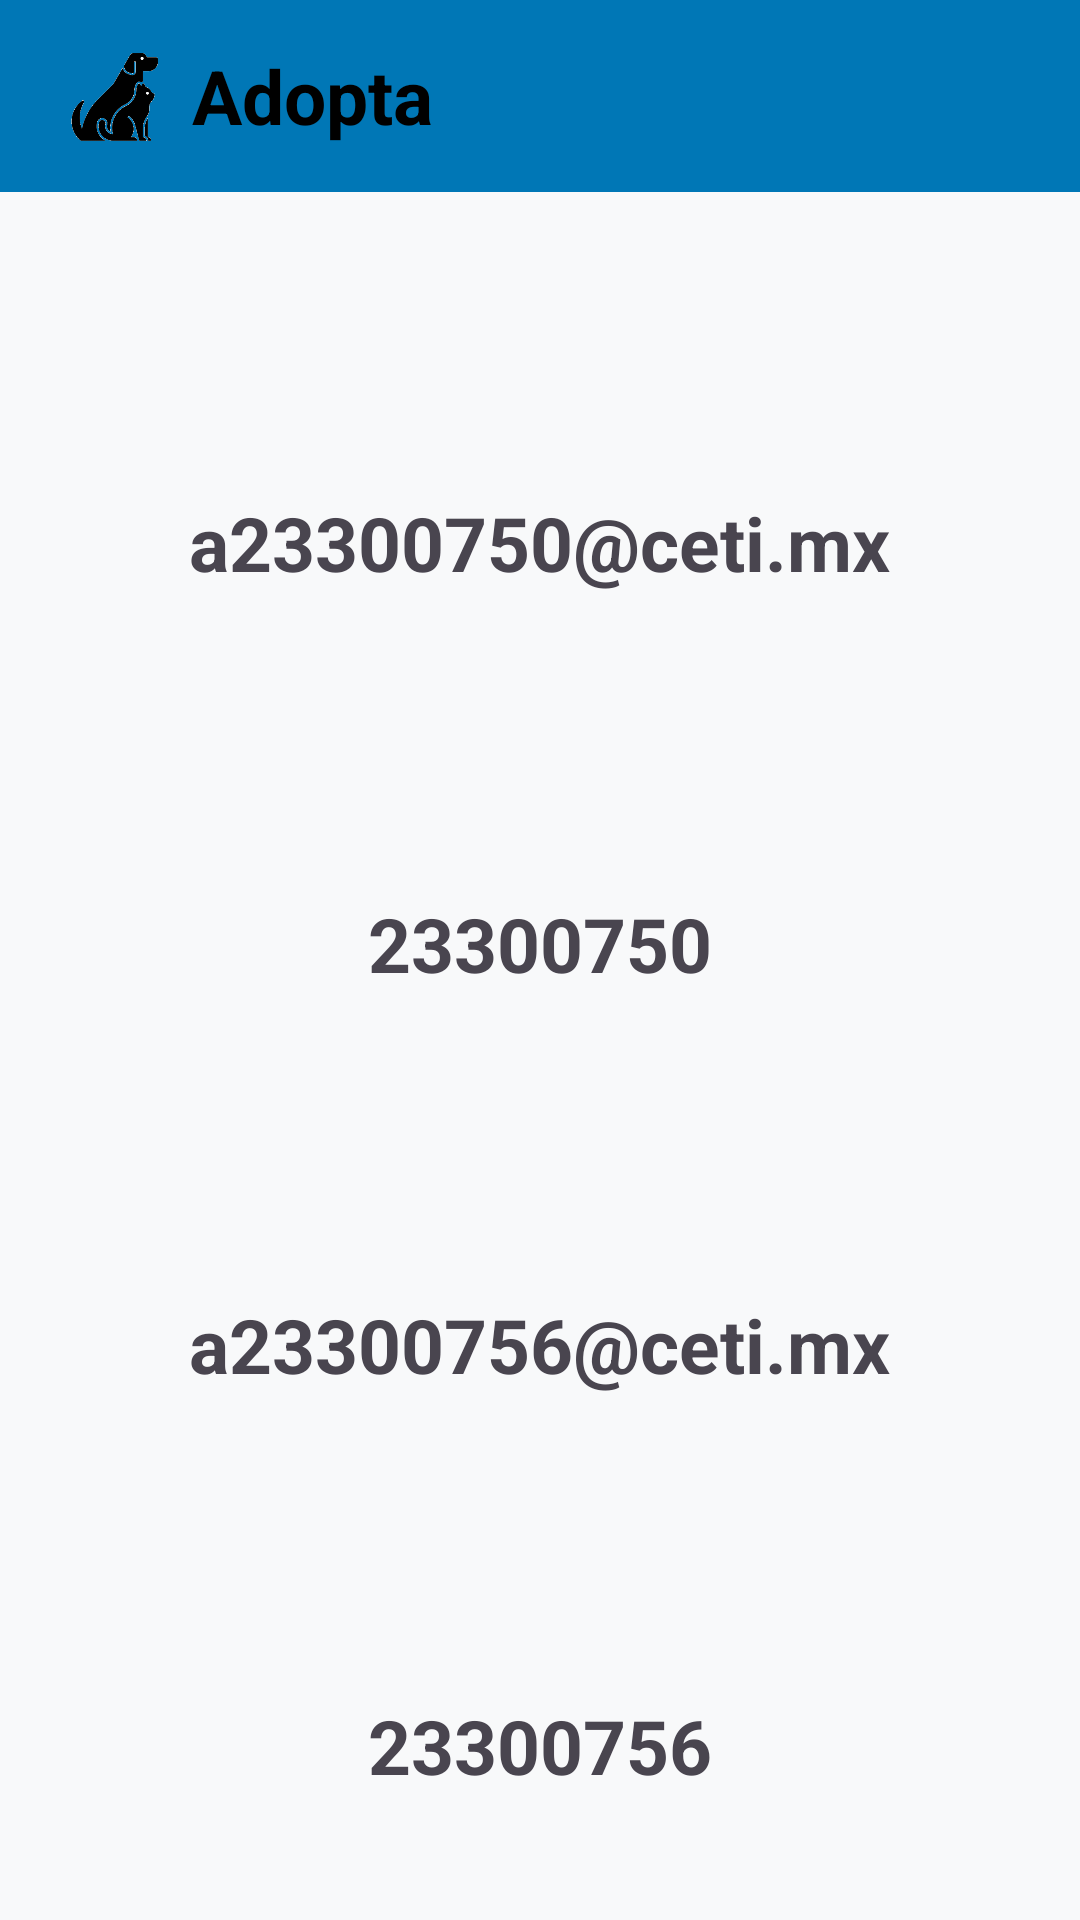

Locate icon controls on the screen. Image size 1080 × 1920, boxes as (x1,y1,x2,y2).
mascotas: (71,53,158,141)
